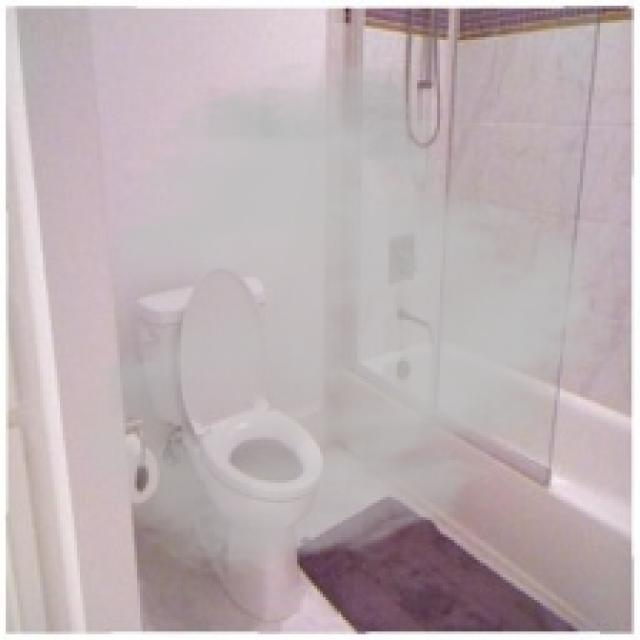Smoke: (69, 54, 628, 580)
